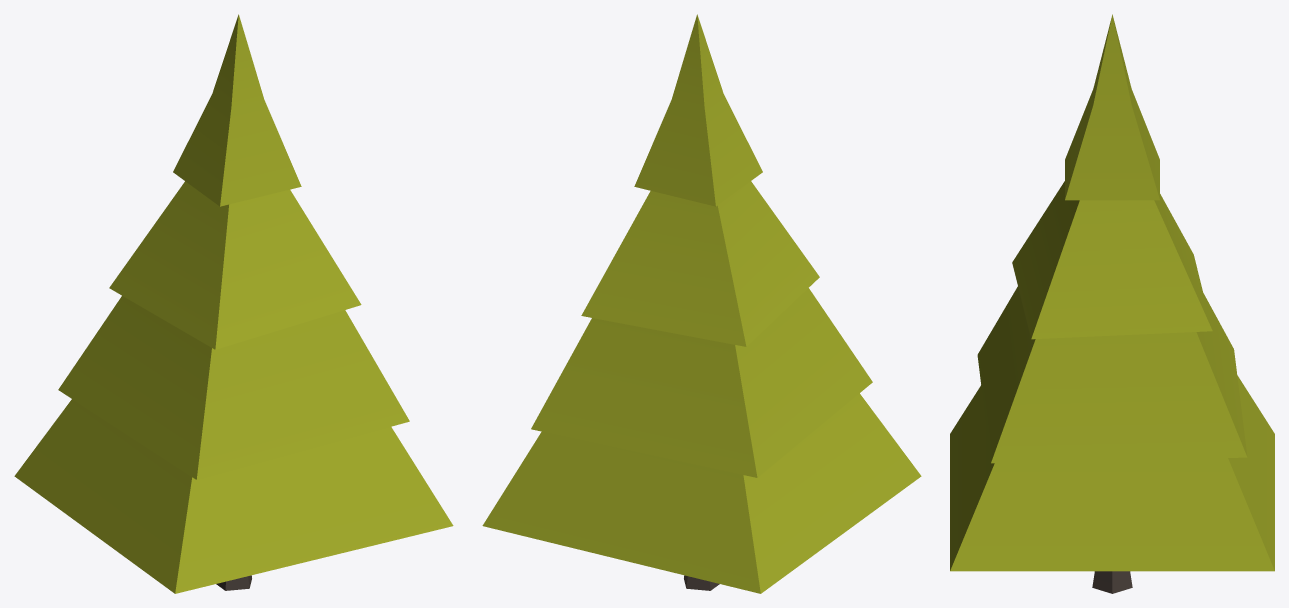
File: cae539a0-d788-4474-95dd-06f9fa7eb176.glb
The picture shows the model from 3 angles, left to right: view 1: azimuth 30°, elevation 25°; view 2: azimuth 150°, elevation 25°; view 3: azimuth 270°, elevation 25°; orthographic projection.
Visible parts, largest first — view 1: Tree_ORIGINAL.2; view 2: Tree_ORIGINAL.2; view 3: Tree_ORIGINAL.2.
Boxes of the visible parts, x1,y1,x2,y2 form: Tree_ORIGINAL.2: (14, 14, 453, 593); Tree_ORIGINAL.2: (482, 14, 921, 593); Tree_ORIGINAL.2: (950, 14, 1274, 593).
Bounding box in the file's own units: 150 × 292 × 150.
